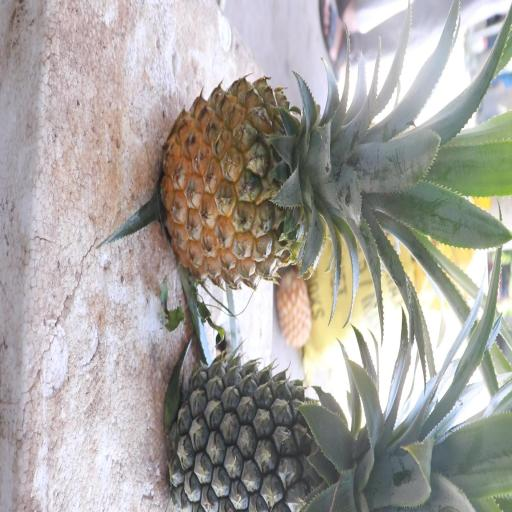Pineapple - v8 v1: (160, 66, 439, 288)
